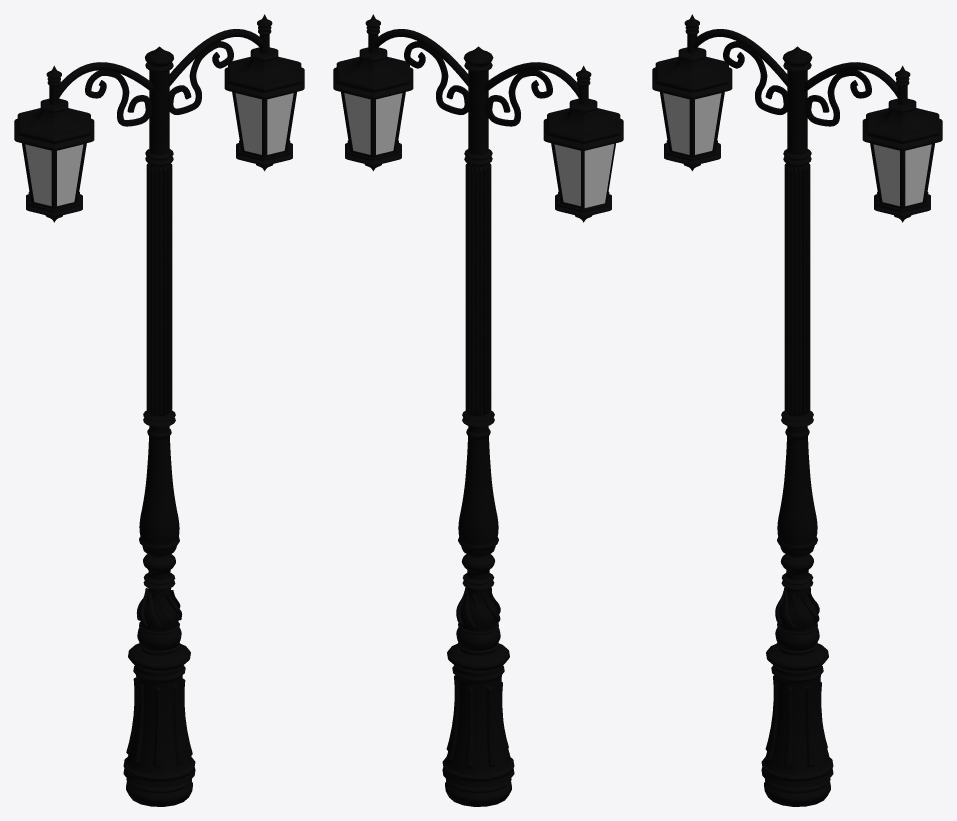
The model's file is classic dual light.obj.
The picture shows the model from 3 angles, left to right: view 1: azimuth 30°, elevation 25°; view 2: azimuth 150°, elevation 25°; view 3: azimuth 330°, elevation 25°; orthographic projection.
Visible parts, largest first — view 1: classic_dual_light_pole_001; view 2: classic_dual_light_pole_001; view 3: classic_dual_light_pole_001.
Boxes of the visible parts, x1,y1,x2,y2 form: classic_dual_light_pole_001: (14, 14, 304, 806); classic_dual_light_pole_001: (333, 14, 623, 806); classic_dual_light_pole_001: (652, 14, 942, 806).
Size of the model in its own units: 165 by 412 by 39.43.
